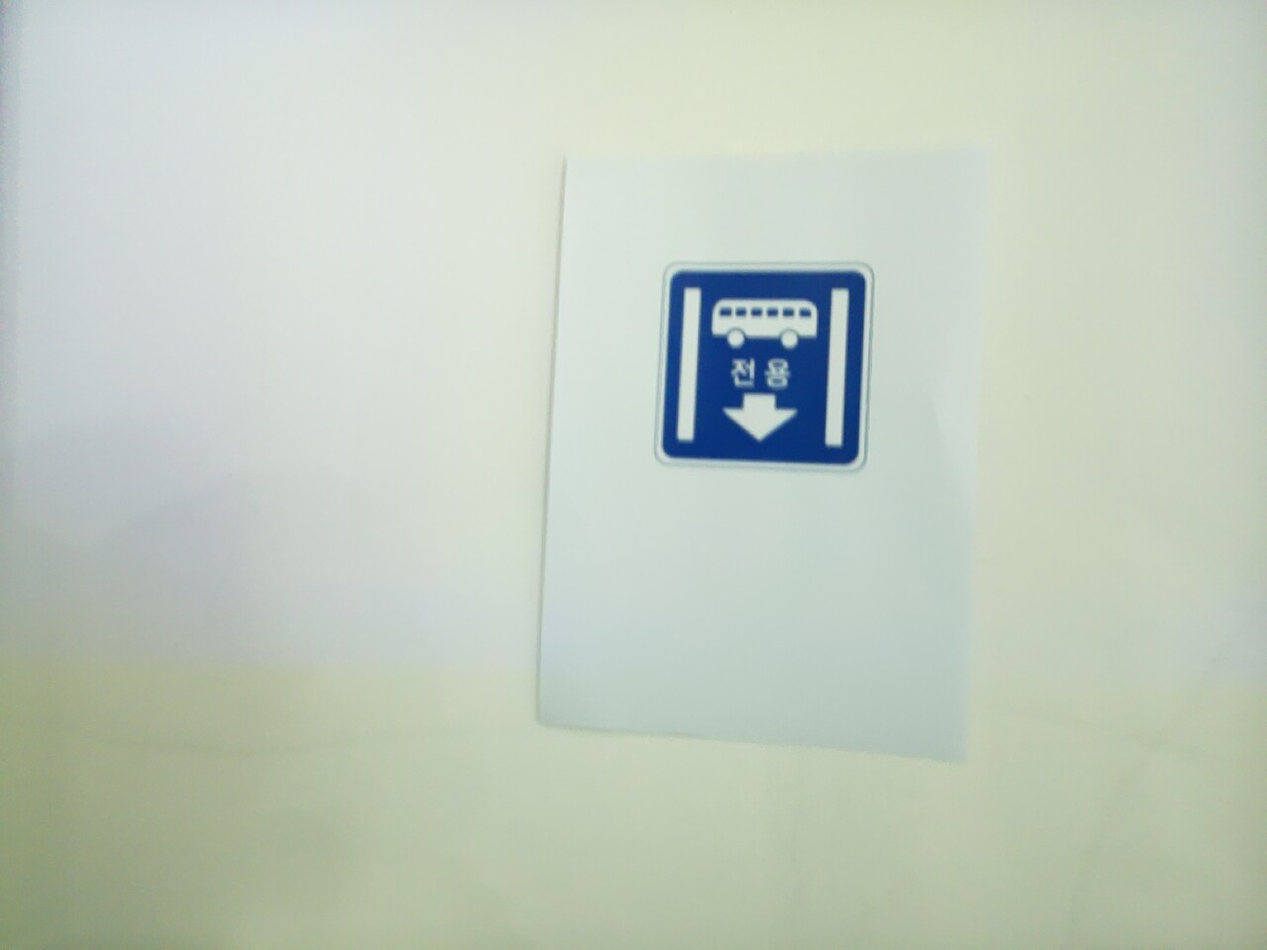bus_only_lane: (654, 262, 874, 473)
